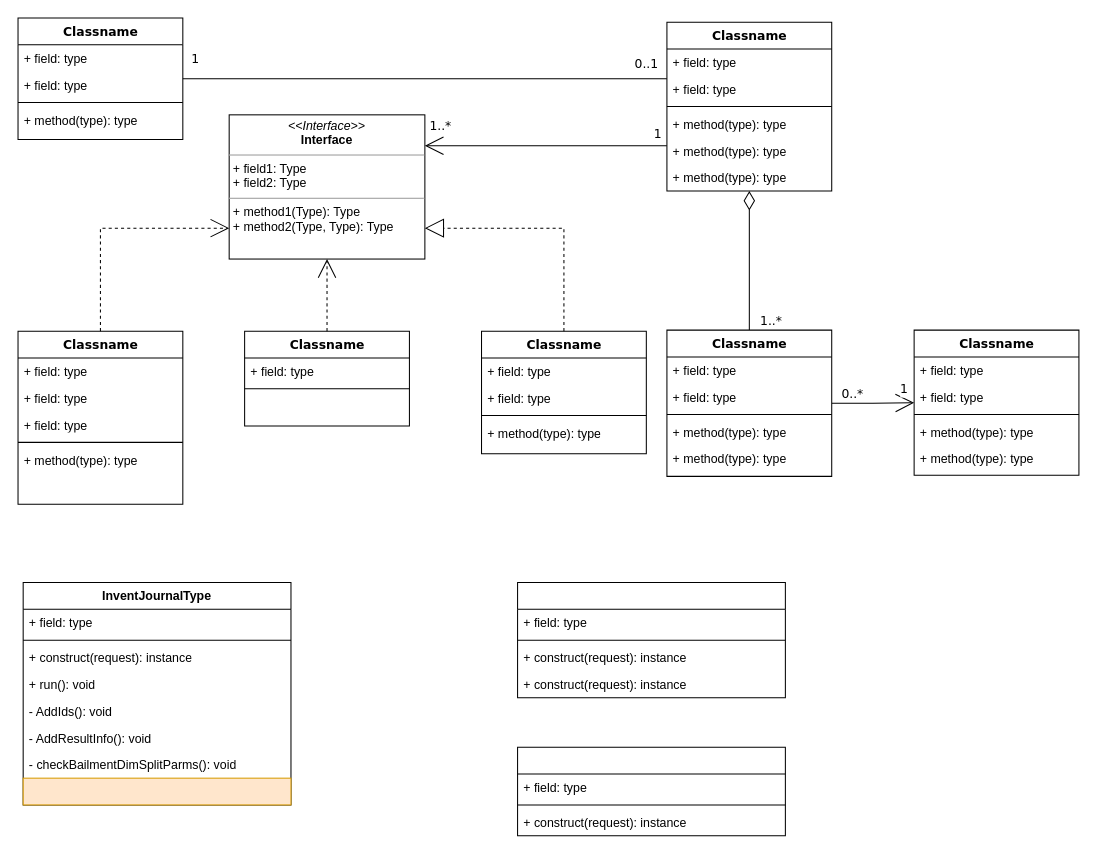
Some shapes in this 1097 by 857 pixel diagram are drawn without their labels. Here are the shapes that lost their labels. From the top down, the box of each, then its label:
(517, 581, 785, 698): InventJournalCreate
(22, 777, 291, 805): - AddIdsPackage (): void
(517, 746, 785, 836): InventJournalUpdate
